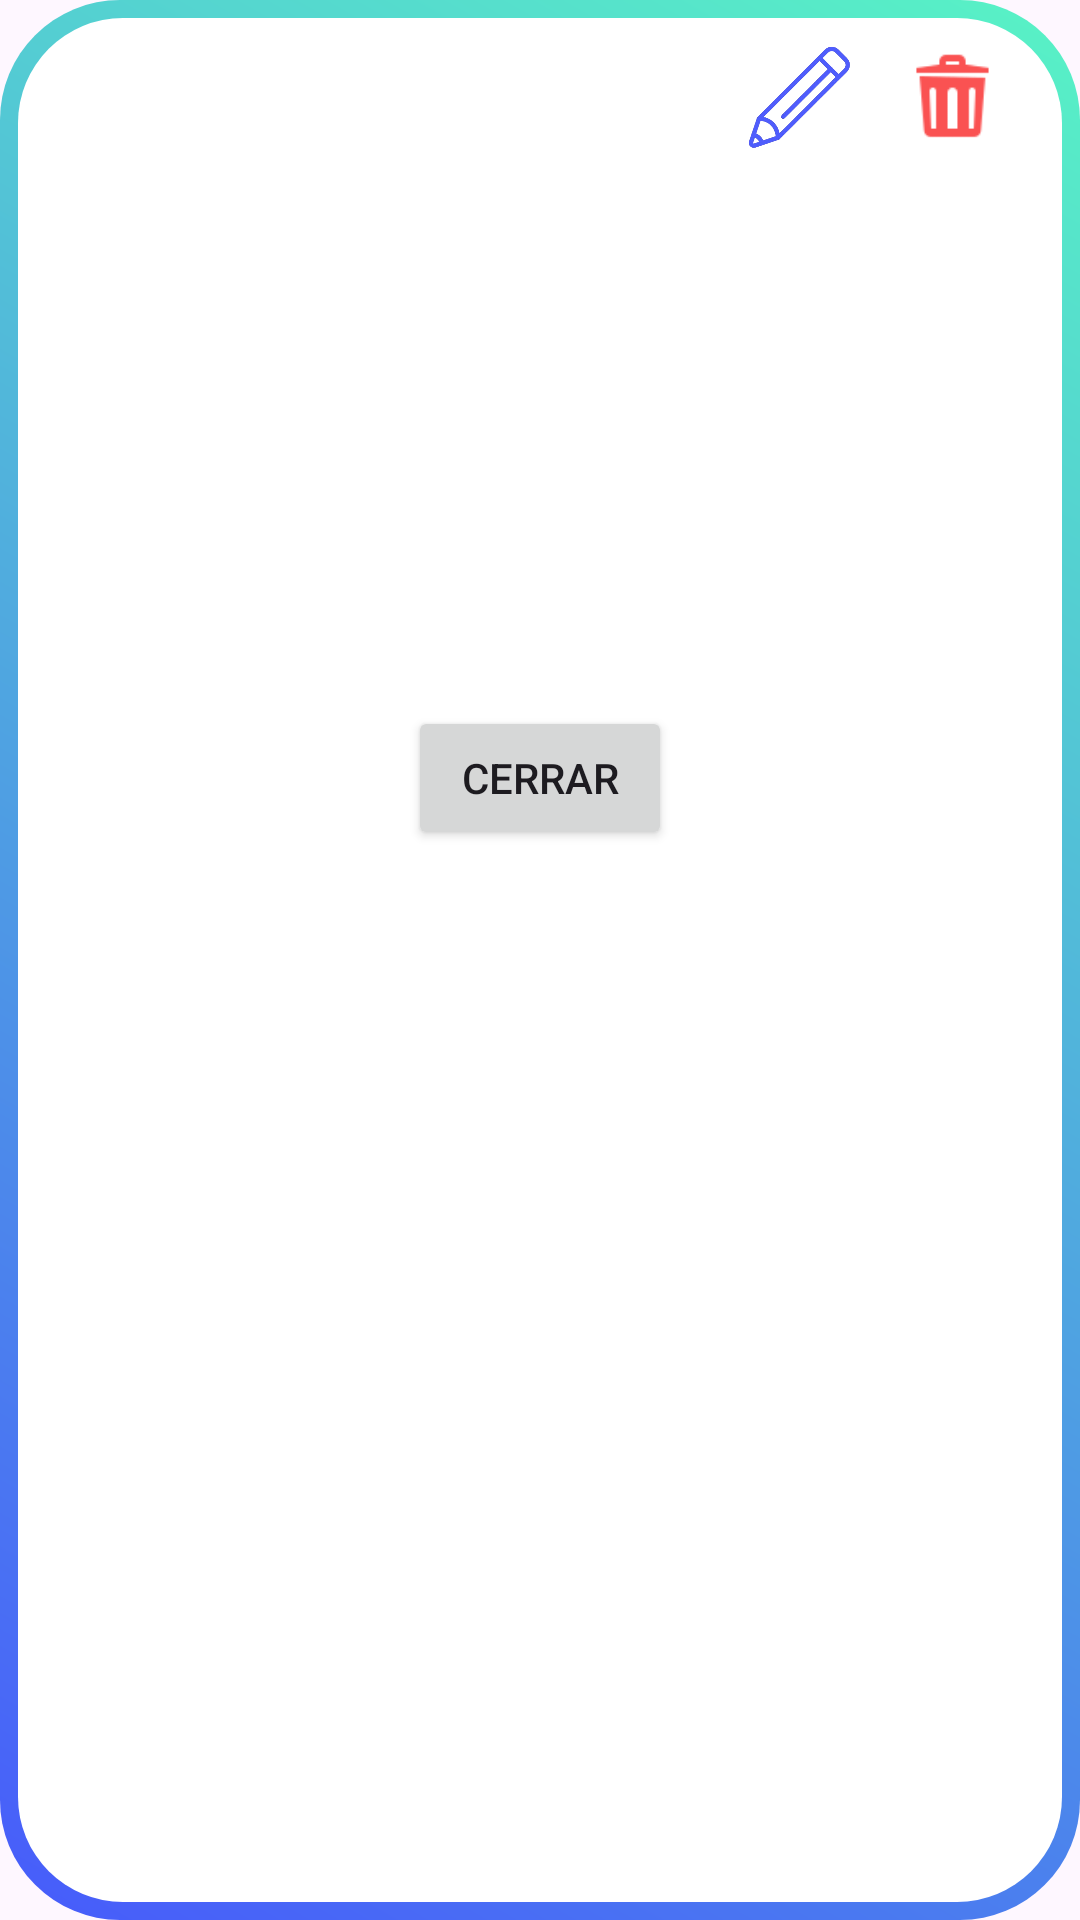

Screen size 1080*1920. Icon name, then its center in pixels as point (x, y):
delete: point (952, 95)
edit: point (799, 97)
